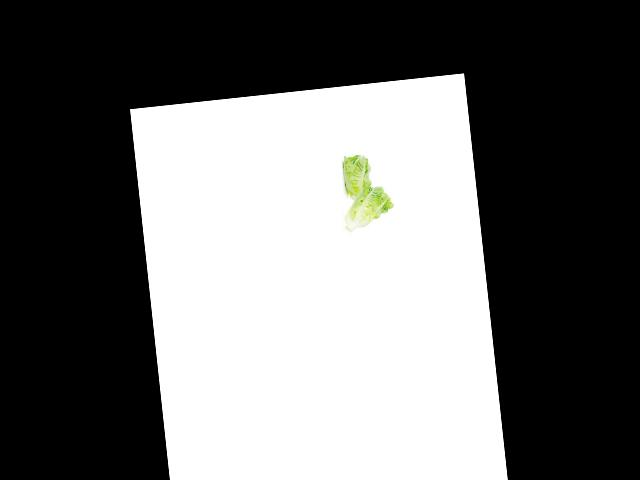lettuce: (336, 179, 394, 234)
